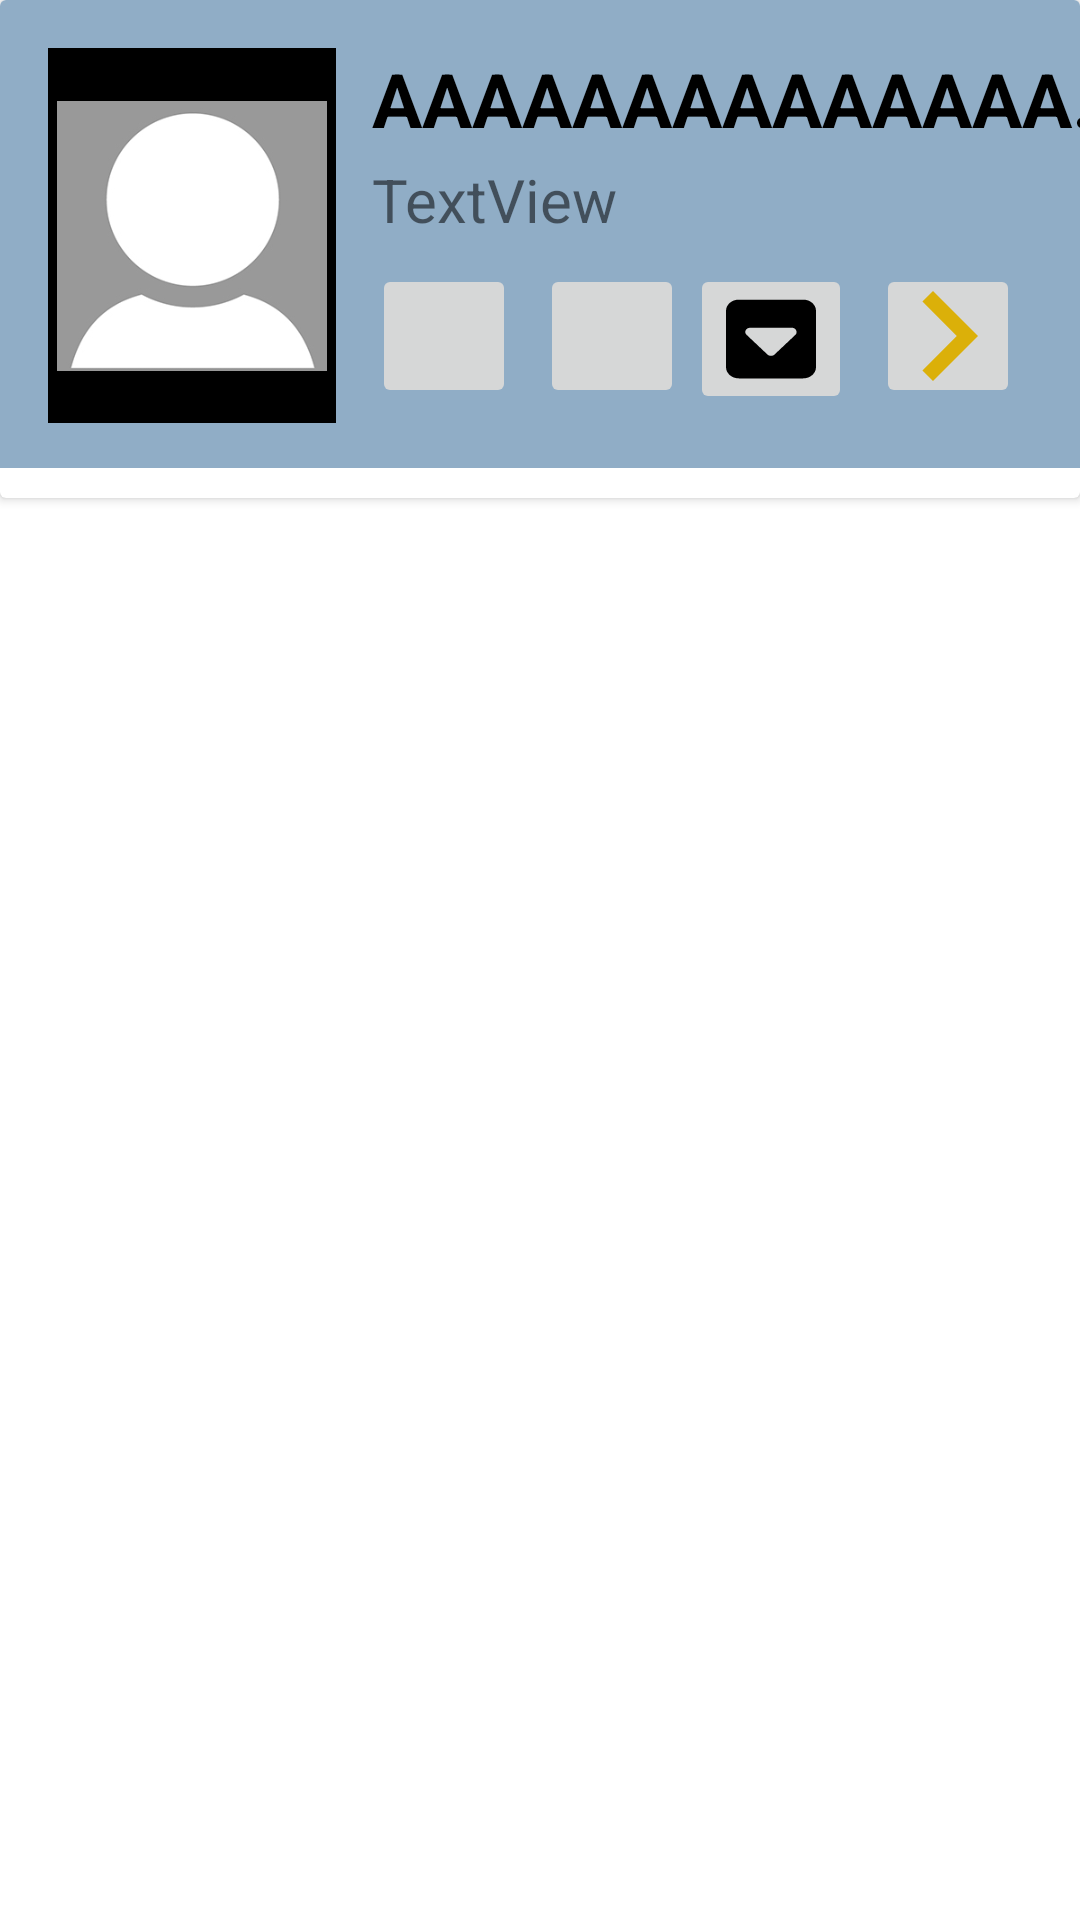

Screen size 1080px x 1920px. Icon name, then its box in pixels as (x1, y1, x2, y2):
right arrow: (888, 282, 1008, 390)
square down caret: (702, 282, 840, 396)
